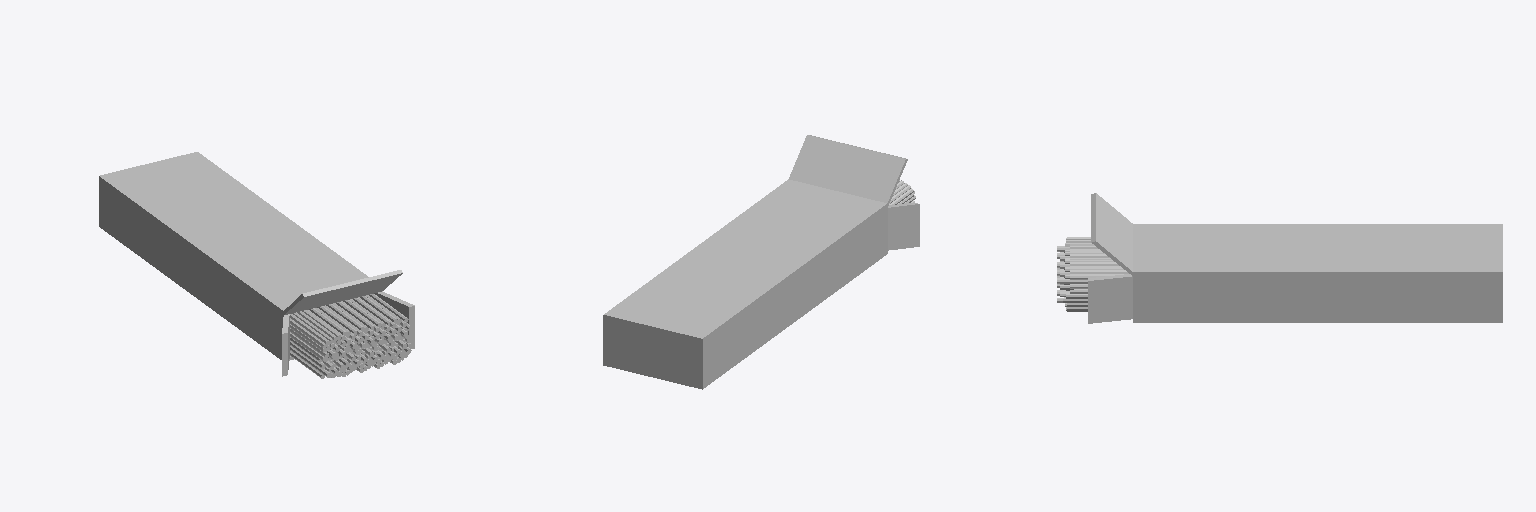
File: pacchetto.obj
3 renders of one model, left to right at view 1: azimuth 30°, elevation 25°; view 2: azimuth 150°, elevation 25°; view 3: azimuth 270°, elevation 25°, orthographic.
Visible parts, largest first — view 1: obj0, obj1; view 2: obj0; view 3: obj0, obj1.
Part boxes in pixels (left/top/right/bottom): obj0: left=99, top=152, right=414, bottom=376; obj1: left=290, top=294, right=412, bottom=378; obj0: left=603, top=135, right=919, bottom=389; obj0: left=1088, top=193, right=1502, bottom=323; obj1: left=1057, top=237, right=1128, bottom=311.
Bounding box in the file's own units: 1.38 × 0.8593 × 4.24.